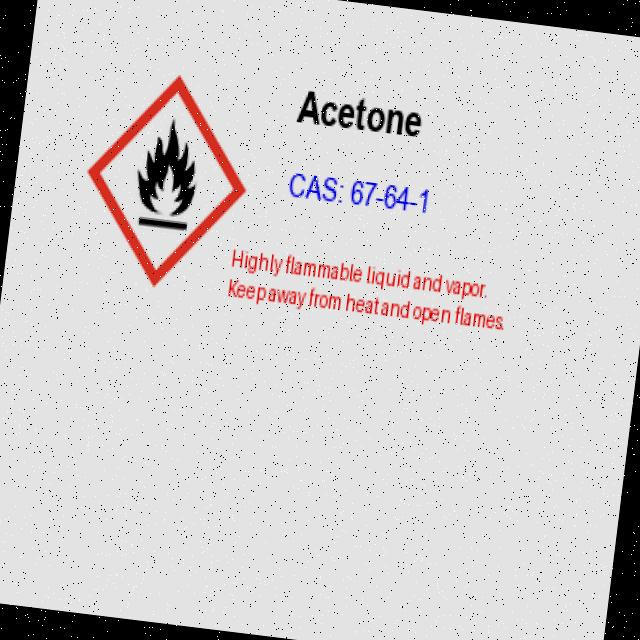cas number: (283, 167, 445, 235)
chemical name: (292, 82, 431, 150)
flammable: (68, 49, 252, 304)
warning text: (223, 244, 520, 352)
